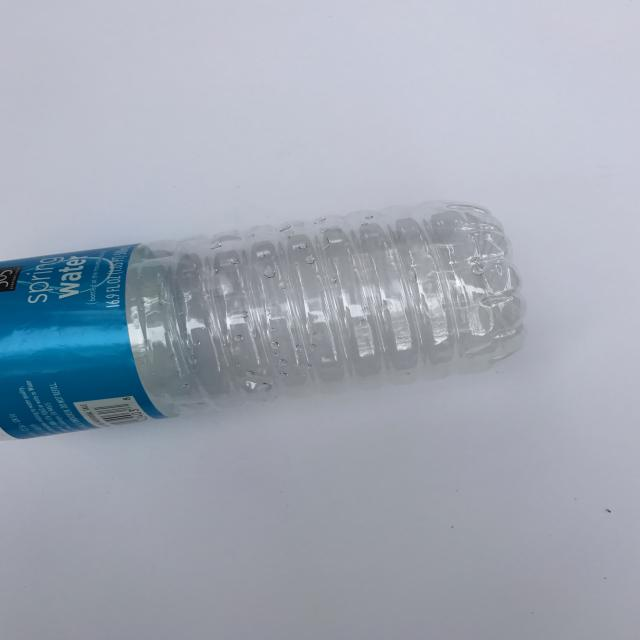plastic: (0, 198, 526, 440)
